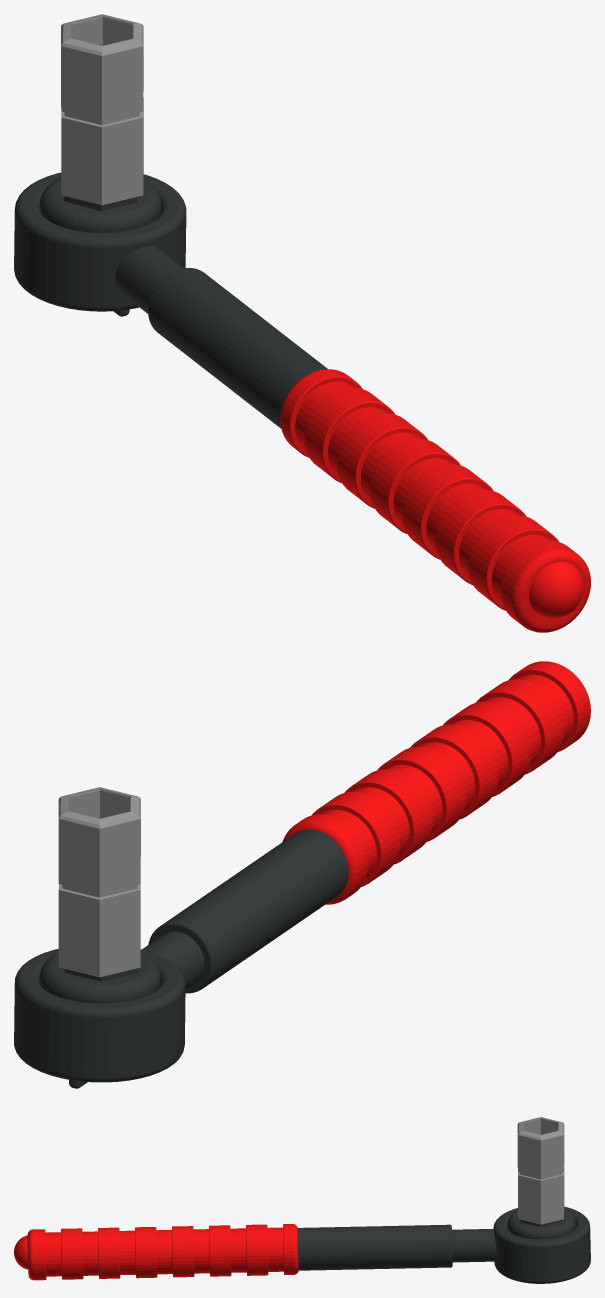
File: klych.FBX
3 views of the same model, one above another, from view 1: azimuth 30°, elevation 25°; view 2: azimuth 150°, elevation 25°; view 3: azimuth 270°, elevation 25° (orthographic). The views are drawn at different scales.
Visible parts, largest first — view 1: Object002; view 2: Object002; view 3: Object002.
Boxes of the visible parts, <box> form: Object002: <box>14,14,590,632</box>; Object002: <box>14,661,590,1088</box>; Object002: <box>14,1117,590,1283</box>.
Size of the model in its own units: 51.2 by 306 by 88.93.
